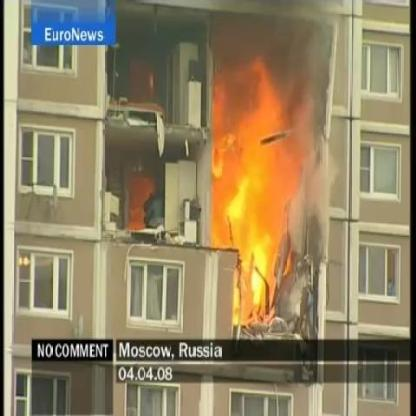fire: (209, 45, 318, 331), (128, 176, 153, 226), (147, 76, 155, 95)
